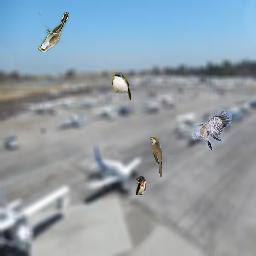Cuckoo: (38, 12, 69, 52), (150, 137, 162, 177)
Swallow: (111, 72, 131, 100), (136, 176, 146, 195)
Woodpecker: (192, 111, 232, 150)
